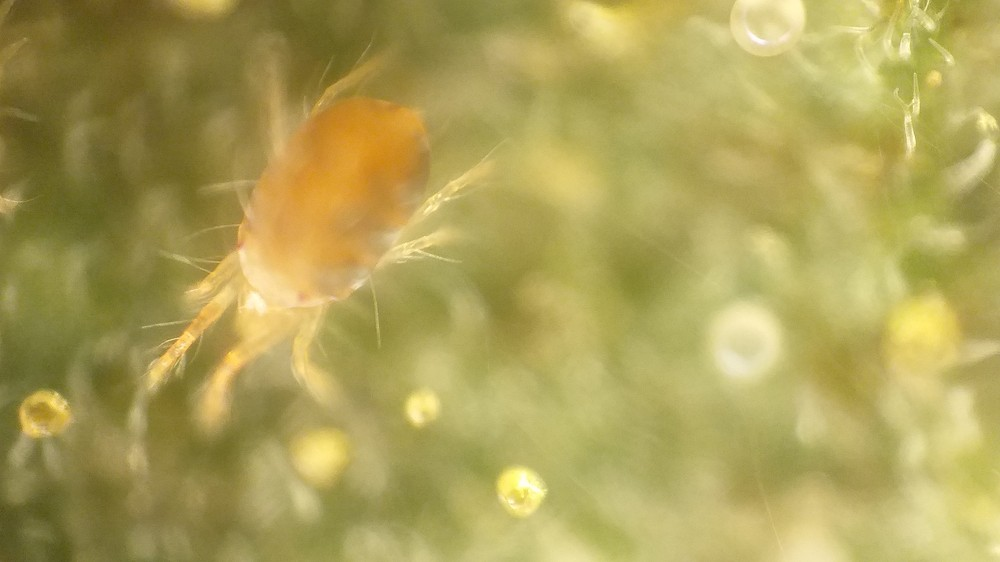Aracnido Rojo: (140, 55, 530, 423)
